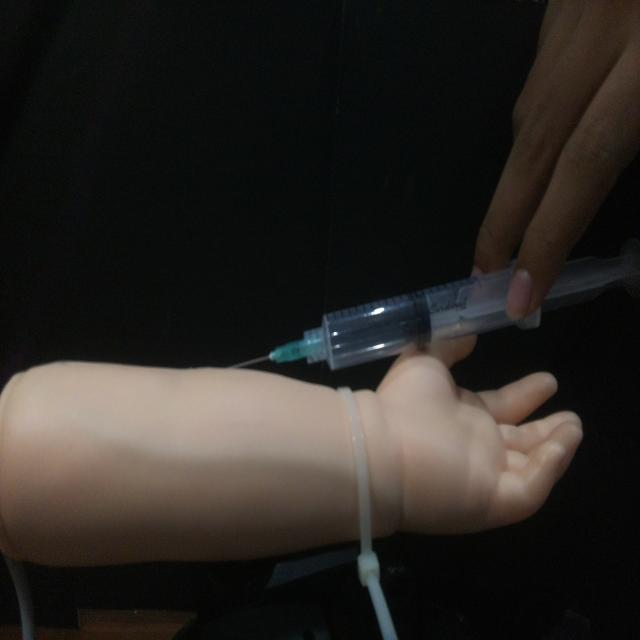15deg: (227, 242, 637, 375)
